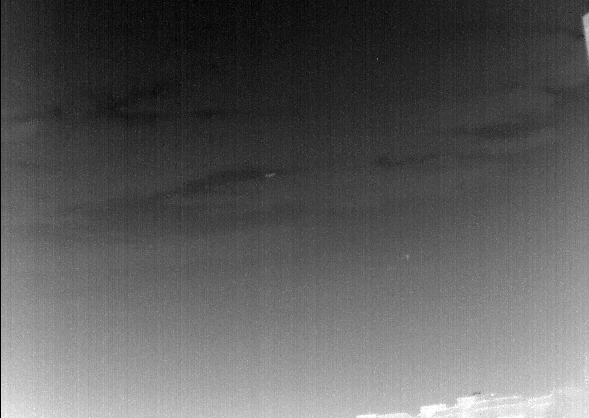dim target: (264, 172, 276, 178), (404, 252, 411, 259)
